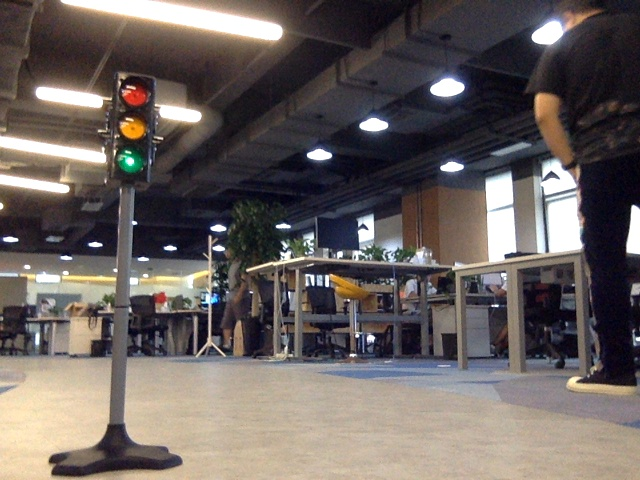green: (116, 80, 143, 175)
